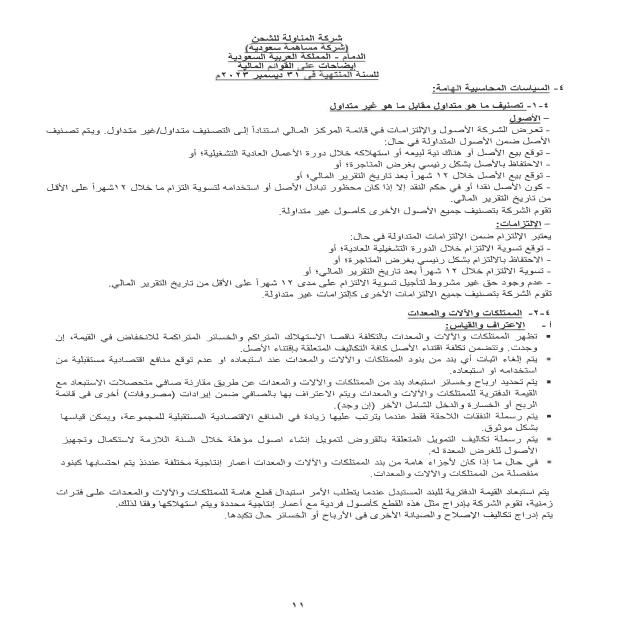notes: (218, 61, 359, 71)
text: (31, 96, 558, 531)
